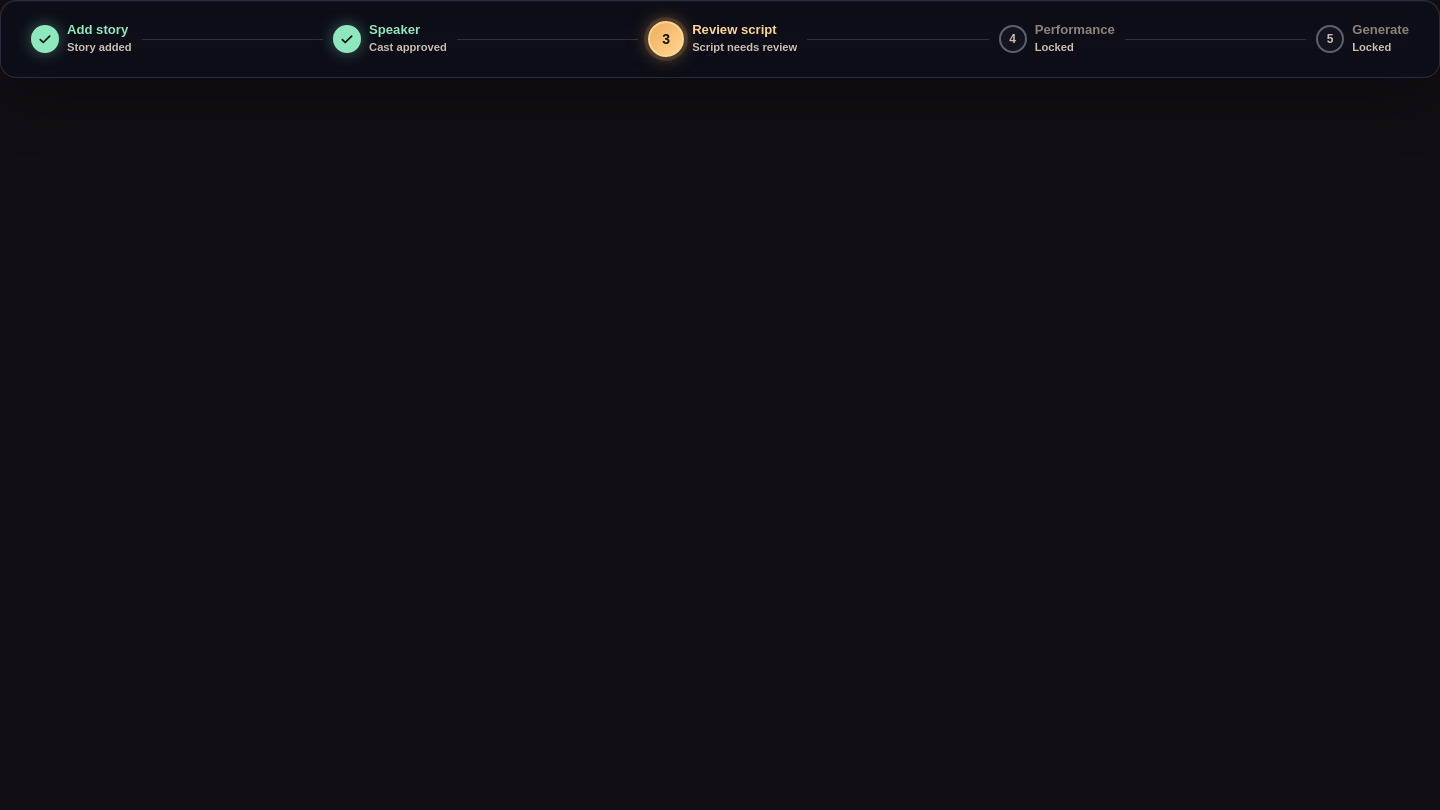
WorkflowStepperComponent › opens the popover on hover (wide tier)
The width and height of the screenshot is (1440, 810).
Hover over the button with test id "workflow-stepper-step" showing "4 Performance Locked" at coordinates (1057, 39), box [989,14,1125,64]
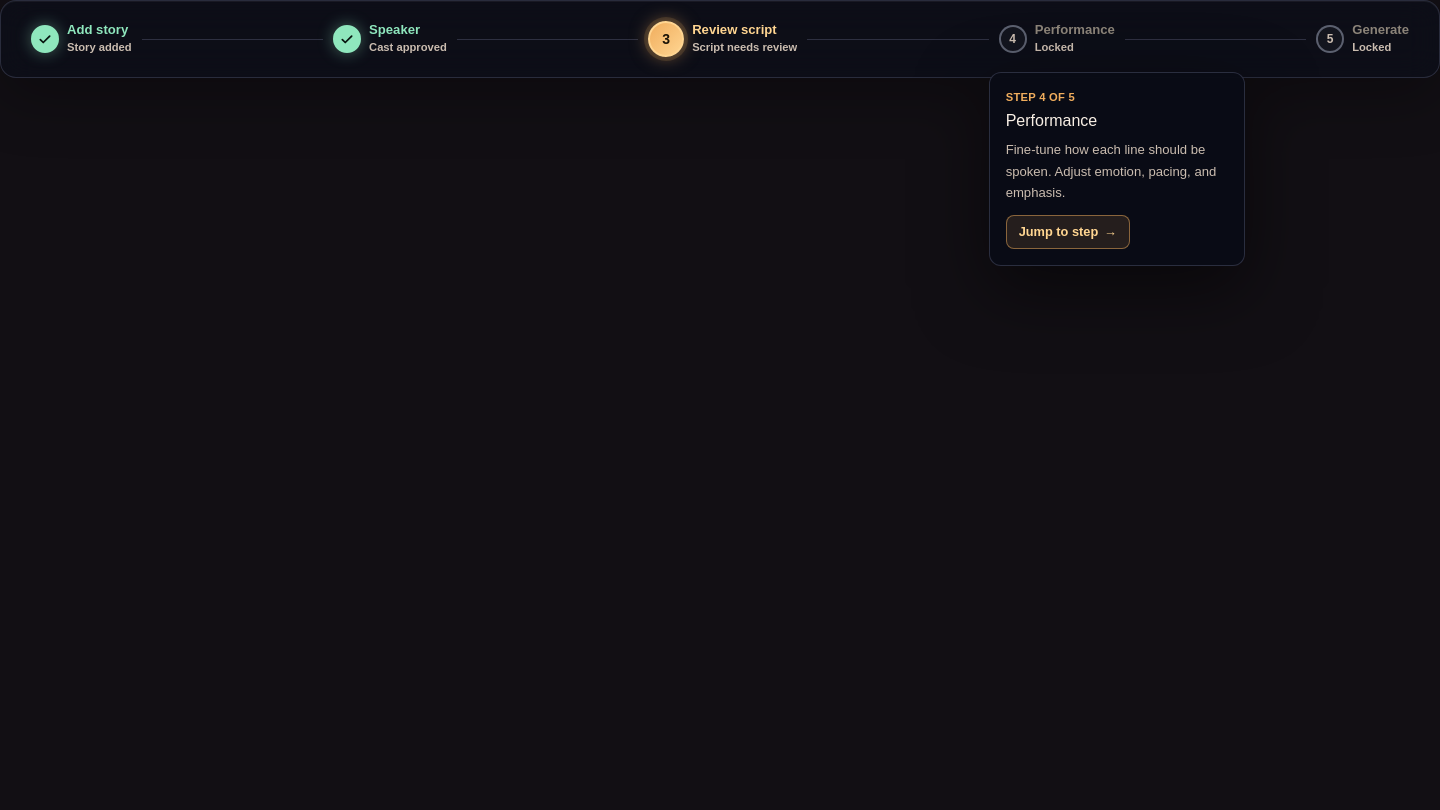
Expected: the dialog with test id "workflow-stepper-popover" is shown, [989,72,1245,266]
Expected: the dialog with test id "workflow-stepper-popover" shows "Performance", [1006,112,1097,129]
